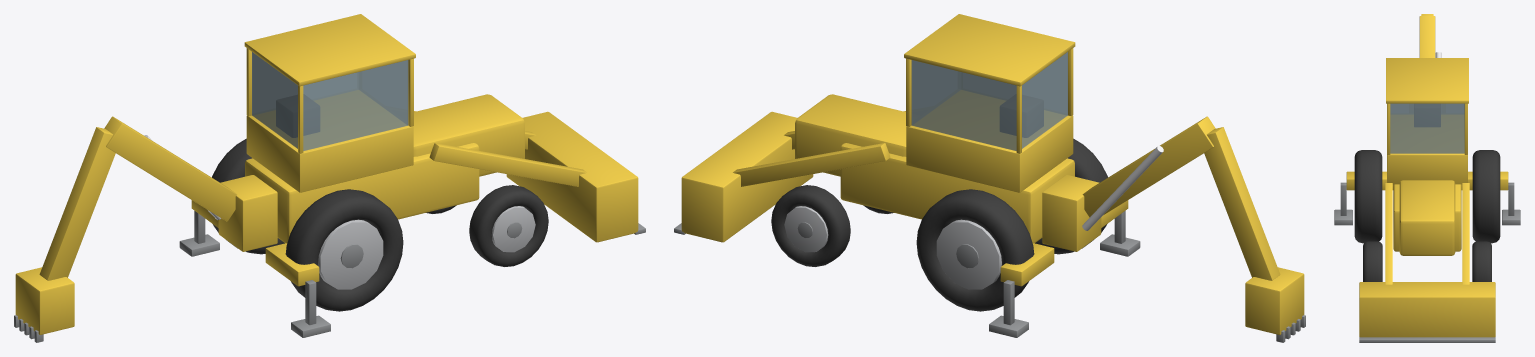
The model's file is EQP-TER-001.glb.
3 renders of one model, left to right at view 1: azimuth 30°, elevation 25°; view 2: azimuth 150°, elevation 25°; view 3: azimuth 270°, elevation 25°, orthographic. The views are drawn at different scales.
Parts seen in each view (by area): view 1: EQP-TER-001_cab_base, EQP-TER-001_carreg_cacamba, EQP-TER-001_corpo, EQP-TER-001_cab_teto, EQP-TER-001_cab_vidro_e, EQP-TER-001_rodat-1_pneu, EQP-TER-001_capo, EQP-TER-001_retro_lanca, EQP-TER-001_retro_braco, EQP-TER-001_rodad-1_pneu, EQP-TER-001_retro_base, EQP-TER-001_retro_cacamba (+10 smaller); view 2: EQP-TER-001_cab_base, EQP-TER-001_carreg_cacamba, EQP-TER-001_corpo, EQP-TER-001_cab_teto, EQP-TER-001_cab_vidro_d, EQP-TER-001_rodat1_pneu, EQP-TER-001_capo, EQP-TER-001_retro_braco, EQP-TER-001_retro_lanca, EQP-TER-001_rodad1_pneu, EQP-TER-001_retro_base, EQP-TER-001_retro_cacamba (+11 smaller); view 3: EQP-TER-001_carreg_cacamba, EQP-TER-001_cab_base, EQP-TER-001_capo, EQP-TER-001_cab_vidro_f, EQP-TER-001_cab_teto, EQP-TER-001_rodat1_pneu, EQP-TER-001_rodat-1_pneu, EQP-TER-001_corpo, EQP-TER-001_carreg_lamina, EQP-TER-001_carreg_braco1, EQP-TER-001_carreg_braco-1, EQP-TER-001_rodad1_pneu (+11 smaller).
Part boxes in pixels (x1,y1,x2,y2): EQP-TER-001_cab_base: (246,90,413,192); EQP-TER-001_carreg_cacamba: (506,111,638,242); EQP-TER-001_corpo: (245,143,479,243); EQP-TER-001_cab_teto: (244,14,415,86); EQP-TER-001_cab_vidro_e: (303,60,408,150); EQP-TER-001_rodat-1_pneu: (285,189,403,311); EQP-TER-001_capo: (413,94,524,176); EQP-TER-001_retro_lanca: (104,116,237,221); EQP-TER-001_retro_braco: (39,127,115,280); EQP-TER-001_rodad-1_pneu: (469,185,548,266); EQP-TER-001_retro_base: (218,175,277,251); EQP-TER-001_retro_cacamba: (15,267,74,334); EQP-TER-001_cab_base: (906,90,1073,192); EQP-TER-001_carreg_cacamba: (681,111,813,242); EQP-TER-001_corpo: (840,143,1074,243); EQP-TER-001_cab_teto: (904,14,1075,86); EQP-TER-001_cab_vidro_d: (911,60,1016,150); EQP-TER-001_rodat1_pneu: (916,189,1034,311); EQP-TER-001_capo: (795,94,906,176); EQP-TER-001_retro_braco: (1204,127,1280,280); EQP-TER-001_retro_lanca: (1082,116,1215,217); EQP-TER-001_rodad1_pneu: (771,185,850,266); EQP-TER-001_retro_base: (1042,175,1101,251); EQP-TER-001_retro_cacamba: (1245,267,1304,334); EQP-TER-001_carreg_cacamba: (1359,282,1495,337); EQP-TER-001_cab_base: (1387,115,1467,184); EQP-TER-001_capo: (1399,180,1455,255); EQP-TER-001_cab_vidro_f: (1390,103,1464,153); EQP-TER-001_cab_teto: (1386,58,1468,103); EQP-TER-001_rodat1_pneu: (1472,150,1500,243); EQP-TER-001_rodat-1_pneu: (1354,150,1382,243); EQP-TER-001_corpo: (1393,184,1461,251); EQP-TER-001_carreg_lamina: (1359,337,1495,342); EQP-TER-001_carreg_braco1: (1462,183,1469,284); EQP-TER-001_carreg_braco-1: (1385,183,1392,284); EQP-TER-001_rodad1_pneu: (1472,241,1491,281).
Bounding box in the file's own units: 8.08 × 3 × 3.
